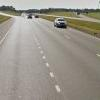Car: (50, 11, 70, 32)
